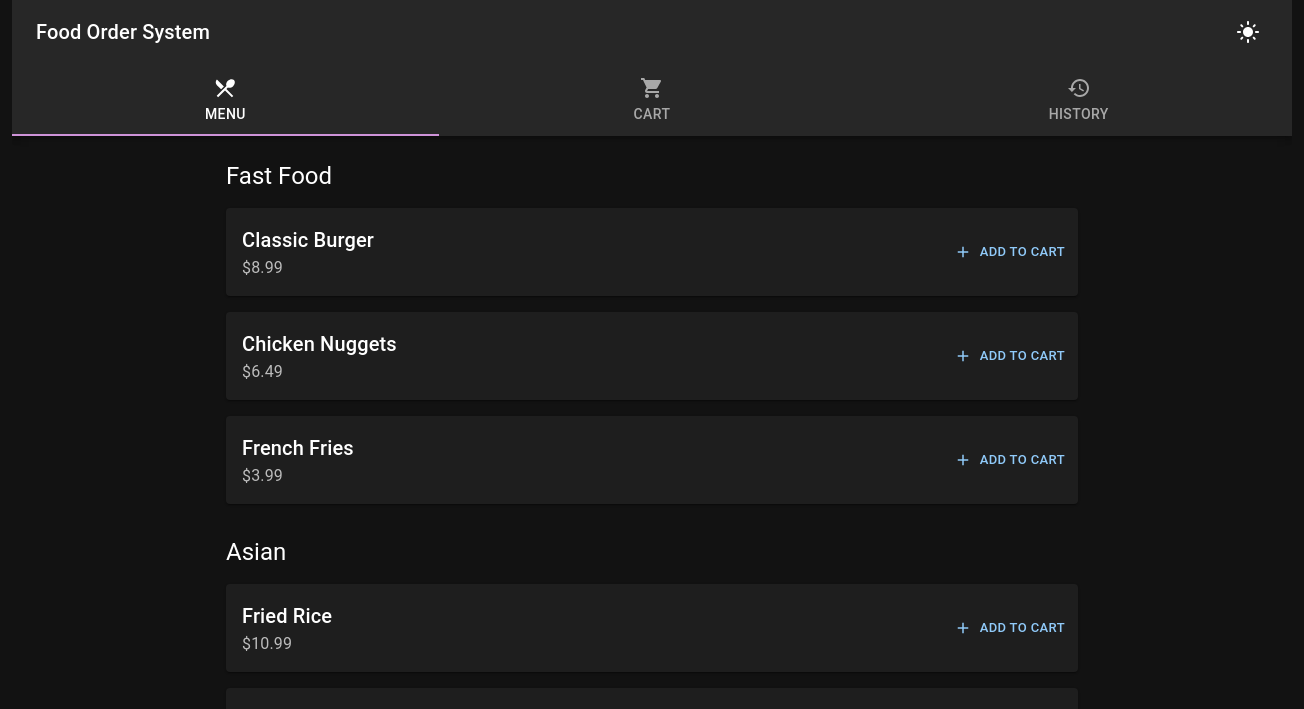
Test: RootLayout › should navigate between tabs
What coordinates should you click on to do the following:
click the tab "Cart"
I would click on:
 (652, 100)
Its box is [439, 64, 865, 136].
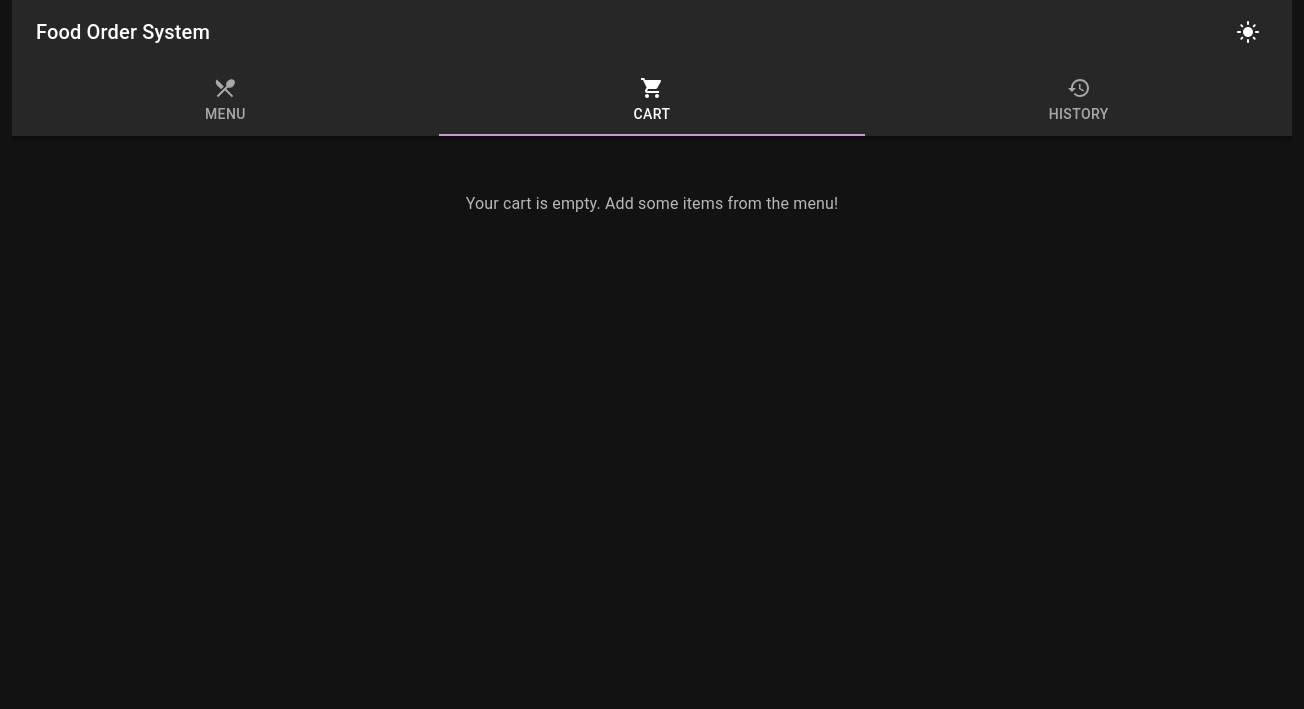
Now the text "Your cart is empty. Add some items from the menu!" is shown, box [466, 194, 838, 213]
What coordinates should you click on to do the following:
click the tab "History"
I would click on:
 (1079, 100)
Its box is [865, 64, 1292, 136].
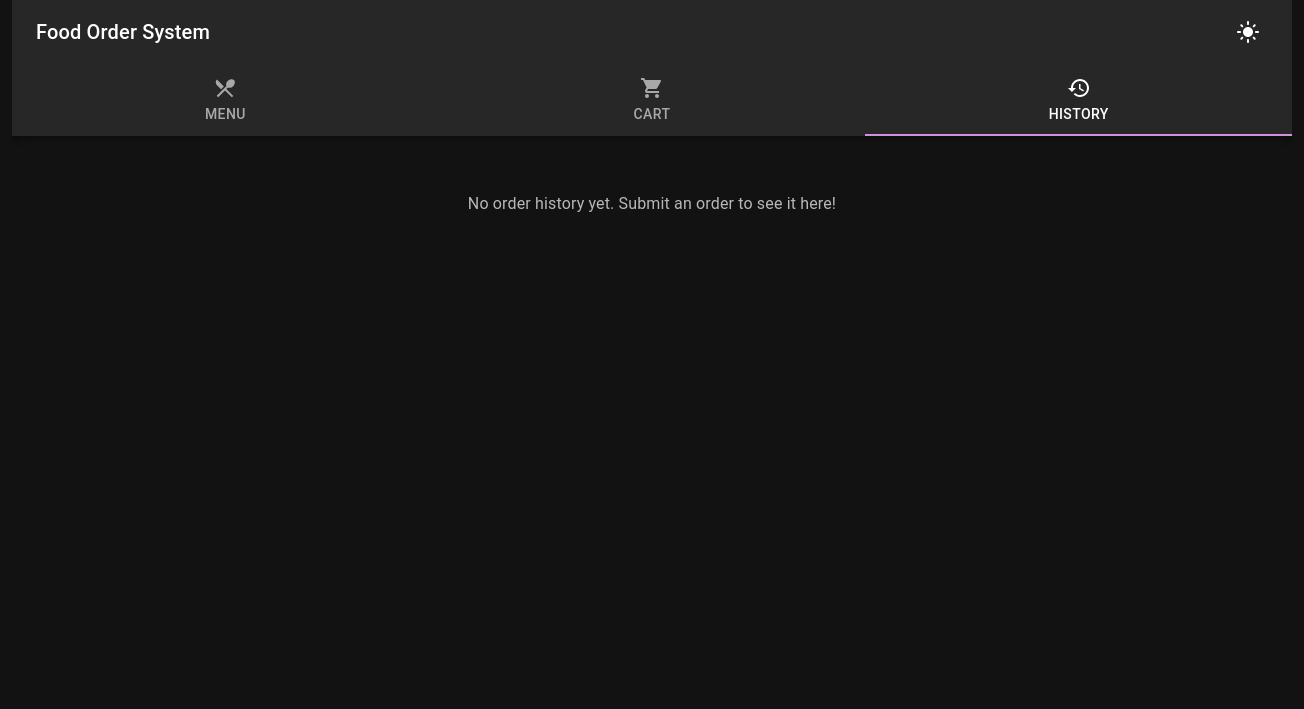
Now the text "No order history yet. Submit an order to see it here!" is shown, box [468, 194, 836, 213]
What coordinates should you click on to do the following:
click the tab "Menu"
I would click on:
 (225, 100)
Its box is [12, 64, 439, 136].
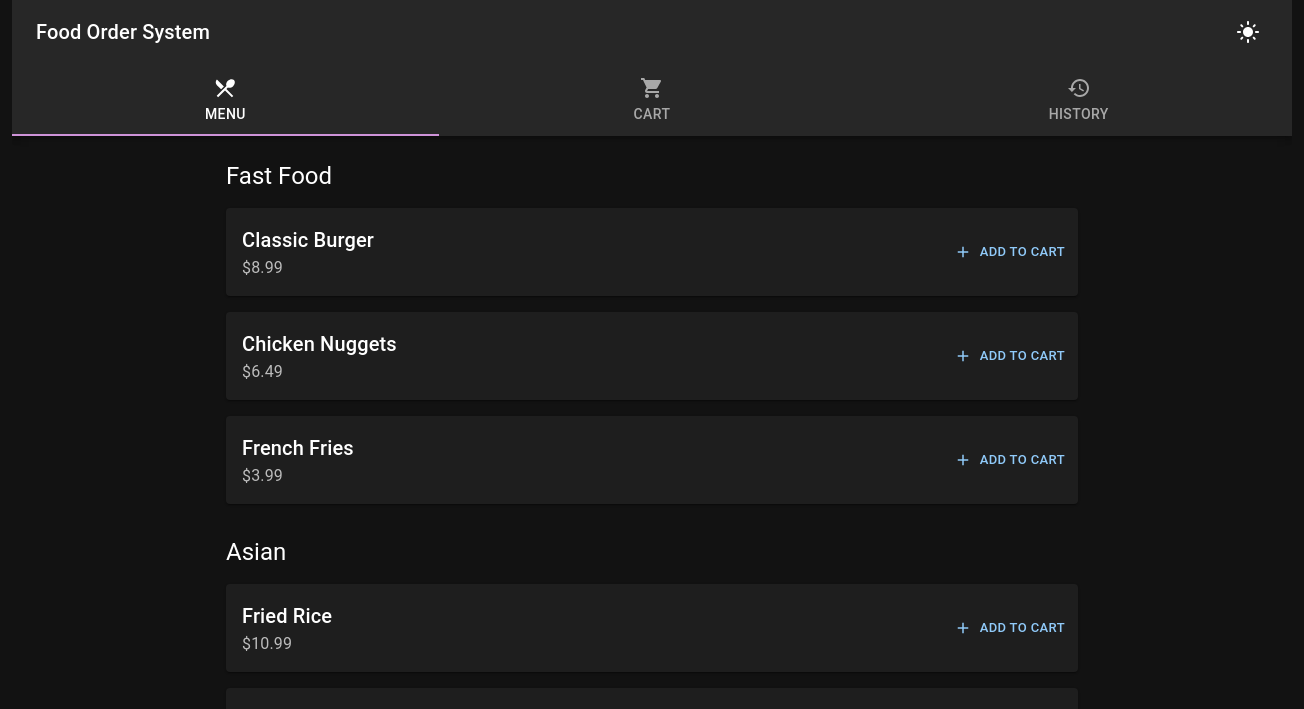
Now the heading "Fast Food" is shown, box [226, 162, 332, 190]
